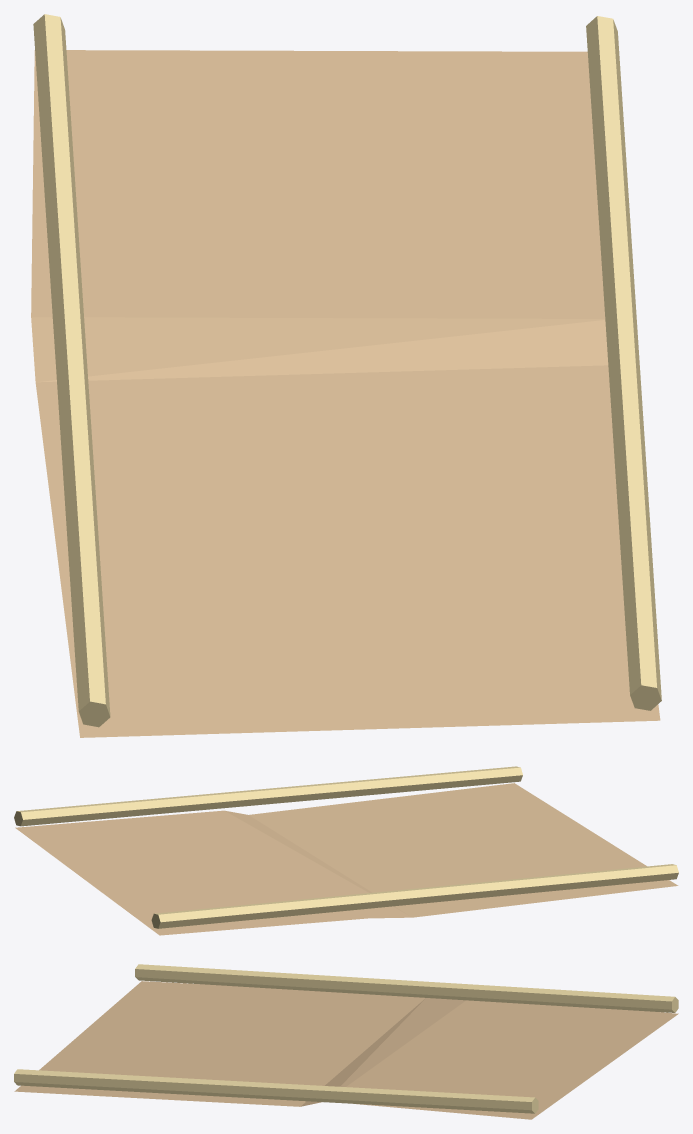
File: rampa_atajo.glb
3 renders of one model, top to bottom at view 1: azimuth 30°, elevation 25°; view 2: azimuth 150°, elevation 25°; view 3: azimuth 270°, elevation 25°, orthographic. The views are drawn at different scales.
Visible parts, largest first — view 1: rampa_atajo; view 2: rampa_atajo; view 3: rampa_atajo.
Boxes of the visible parts, x1,y1,x2,y2 form: rampa_atajo: [31, 14, 661, 737]; rampa_atajo: [14, 766, 678, 935]; rampa_atajo: [14, 964, 678, 1119].
Size of the model in its own units: 2.95 by 0.6426 by 3.66.
